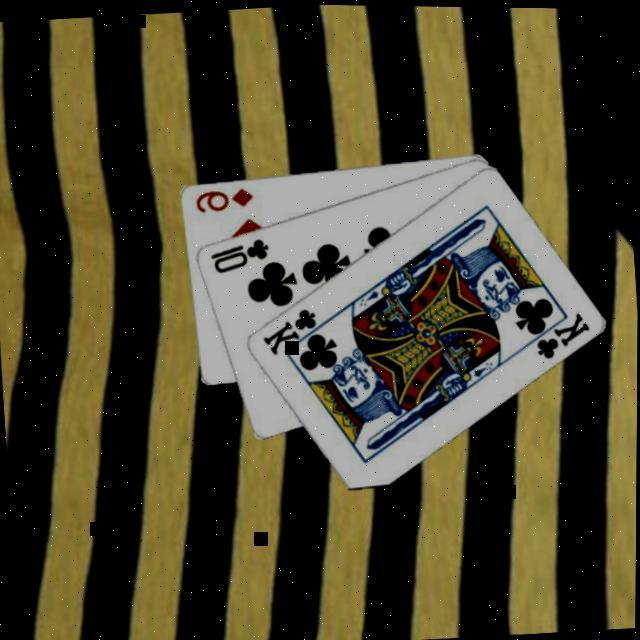10C: (206, 235, 272, 278)
6D: (192, 184, 256, 217)
KC: (520, 308, 594, 364), (258, 304, 332, 359)
